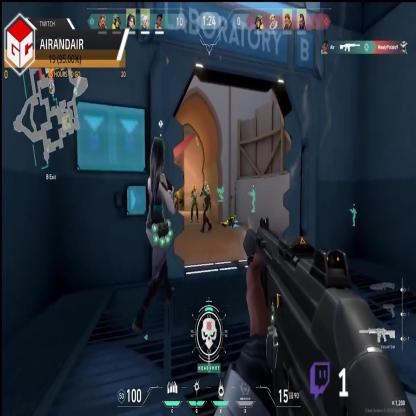enemy: (200, 181, 210, 234), (190, 183, 198, 224), (173, 185, 178, 215)
enemy_head: (203, 181, 208, 190), (192, 184, 196, 191), (174, 185, 177, 191)
